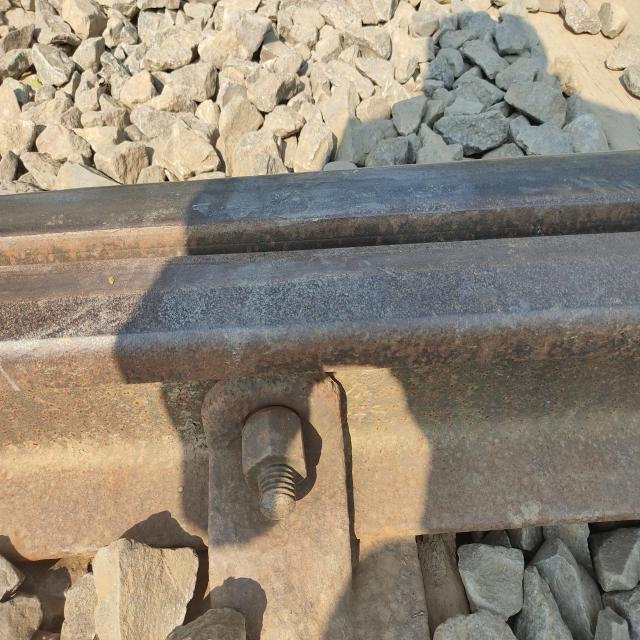squats_high: (45, 209, 65, 229), (107, 275, 113, 289)
